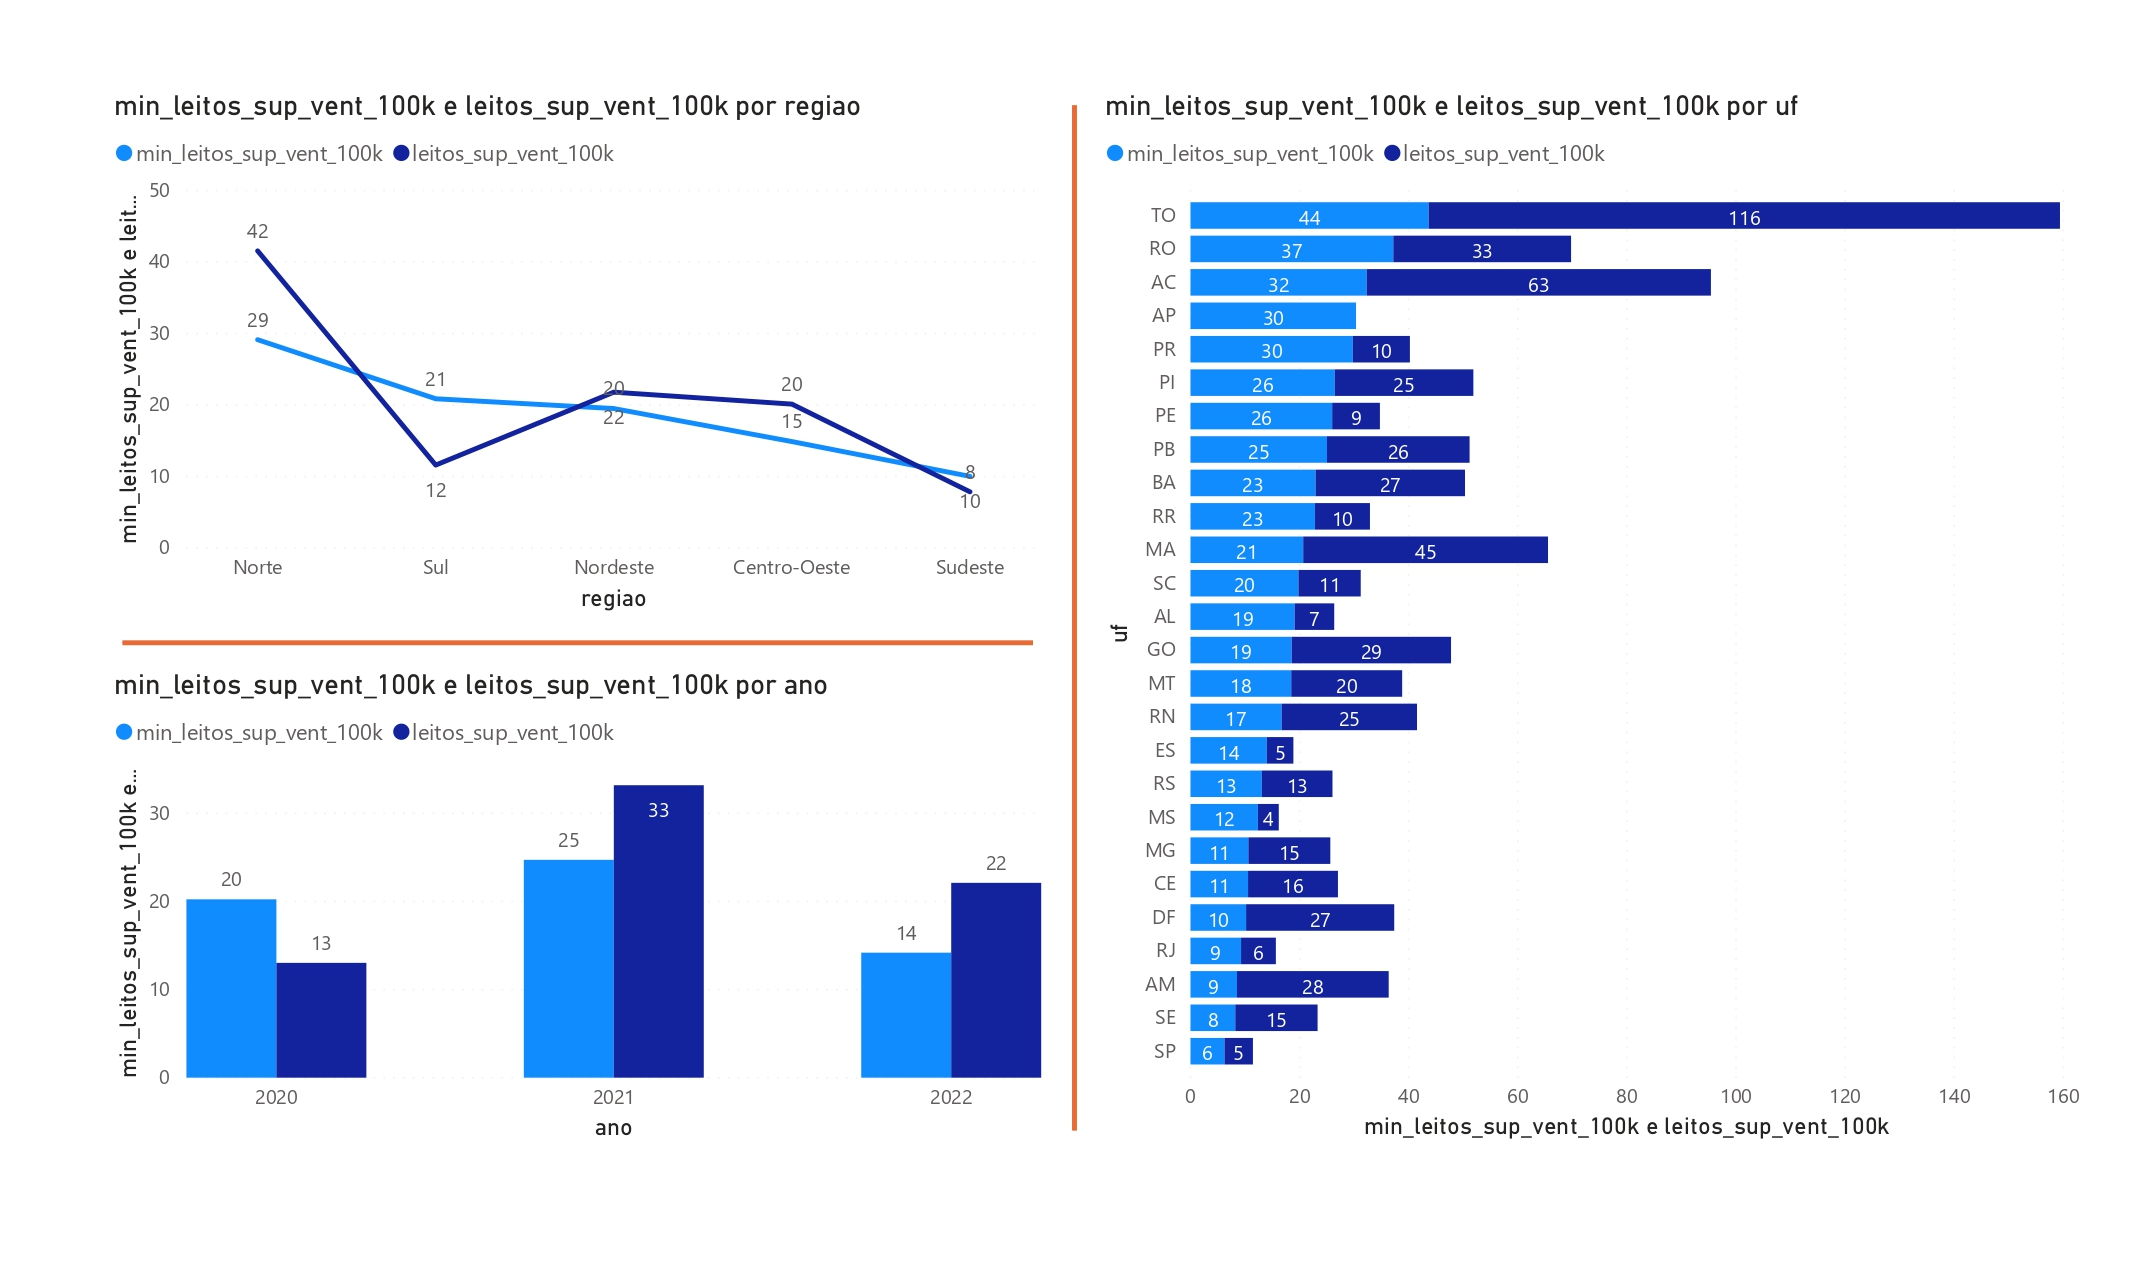

This screenshot's page, from the dashboard's own definition file:
{"tool":"powerbi","page":{"name":"Suporte SUS 100K","canvas":[1280,720],"ordinal":4},"visuals":[{"type":"basicShape","box":[624.7,25.5,28.9,645.1],"z":0},{"type":"lineChart","fields":{"Y":["Avg(projetotcc fato_recursos.quant_min_sup_vent_sus_100k)","Avg(projetotcc fato_recursos.quant_sup_vent_sus_100k)"],"Category":["projetotcc dim_local.regiao"]},"box":[49,26,575,323],"z":5},{"type":"clusteredColumnChart","fields":{"Category":["projetotcc dim_tempo.ano"],"Y":["Avg(projetotcc fato_recursos.quant_min_sup_vent_sus_100k)","Avg(projetotcc fato_recursos.quant_sup_vent_sus_100k)"]},"box":[49,378,575,293],"z":2000},{"type":"barChart","fields":{"Category":["projetotcc dim_local.uf","projetotcc dim_local.regiao"],"Y":["Avg(projetotcc fato_recursos.quant_min_sup_vent_sus_100k)","Avg(projetotcc fato_recursos.quant_sup_vent_sus_100k)"]},"box":[653.6,25.5,604.3,645.1],"z":3000},{"type":"basicShape","box":[49.4,348.9,575.3,28.9],"z":4000}]}

Visuals, with their boxes on the page's 1280x720 design canvas (x1, y1, x2, y2). These are canvas units, not pixel positions in the 2150x1275 screenshot, which may show the page scaled, cropped or inside an application window:
basicShape: crop(625, 26, 654, 671)
lineChart - Avg(projetotcc fato_recursos.quant_min_sup_vent_sus_100k) x Avg(projetotcc fato_recursos.quant_sup_vent_sus_100k): crop(49, 26, 624, 349)
clusteredColumnChart - projetotcc dim_tempo.ano x Avg(projetotcc fato_recursos.quant_min_sup_vent_sus_100k): crop(49, 378, 624, 671)
barChart - projetotcc dim_local.uf x projetotcc dim_local.regiao: crop(654, 26, 1258, 671)
basicShape: crop(49, 349, 625, 378)
